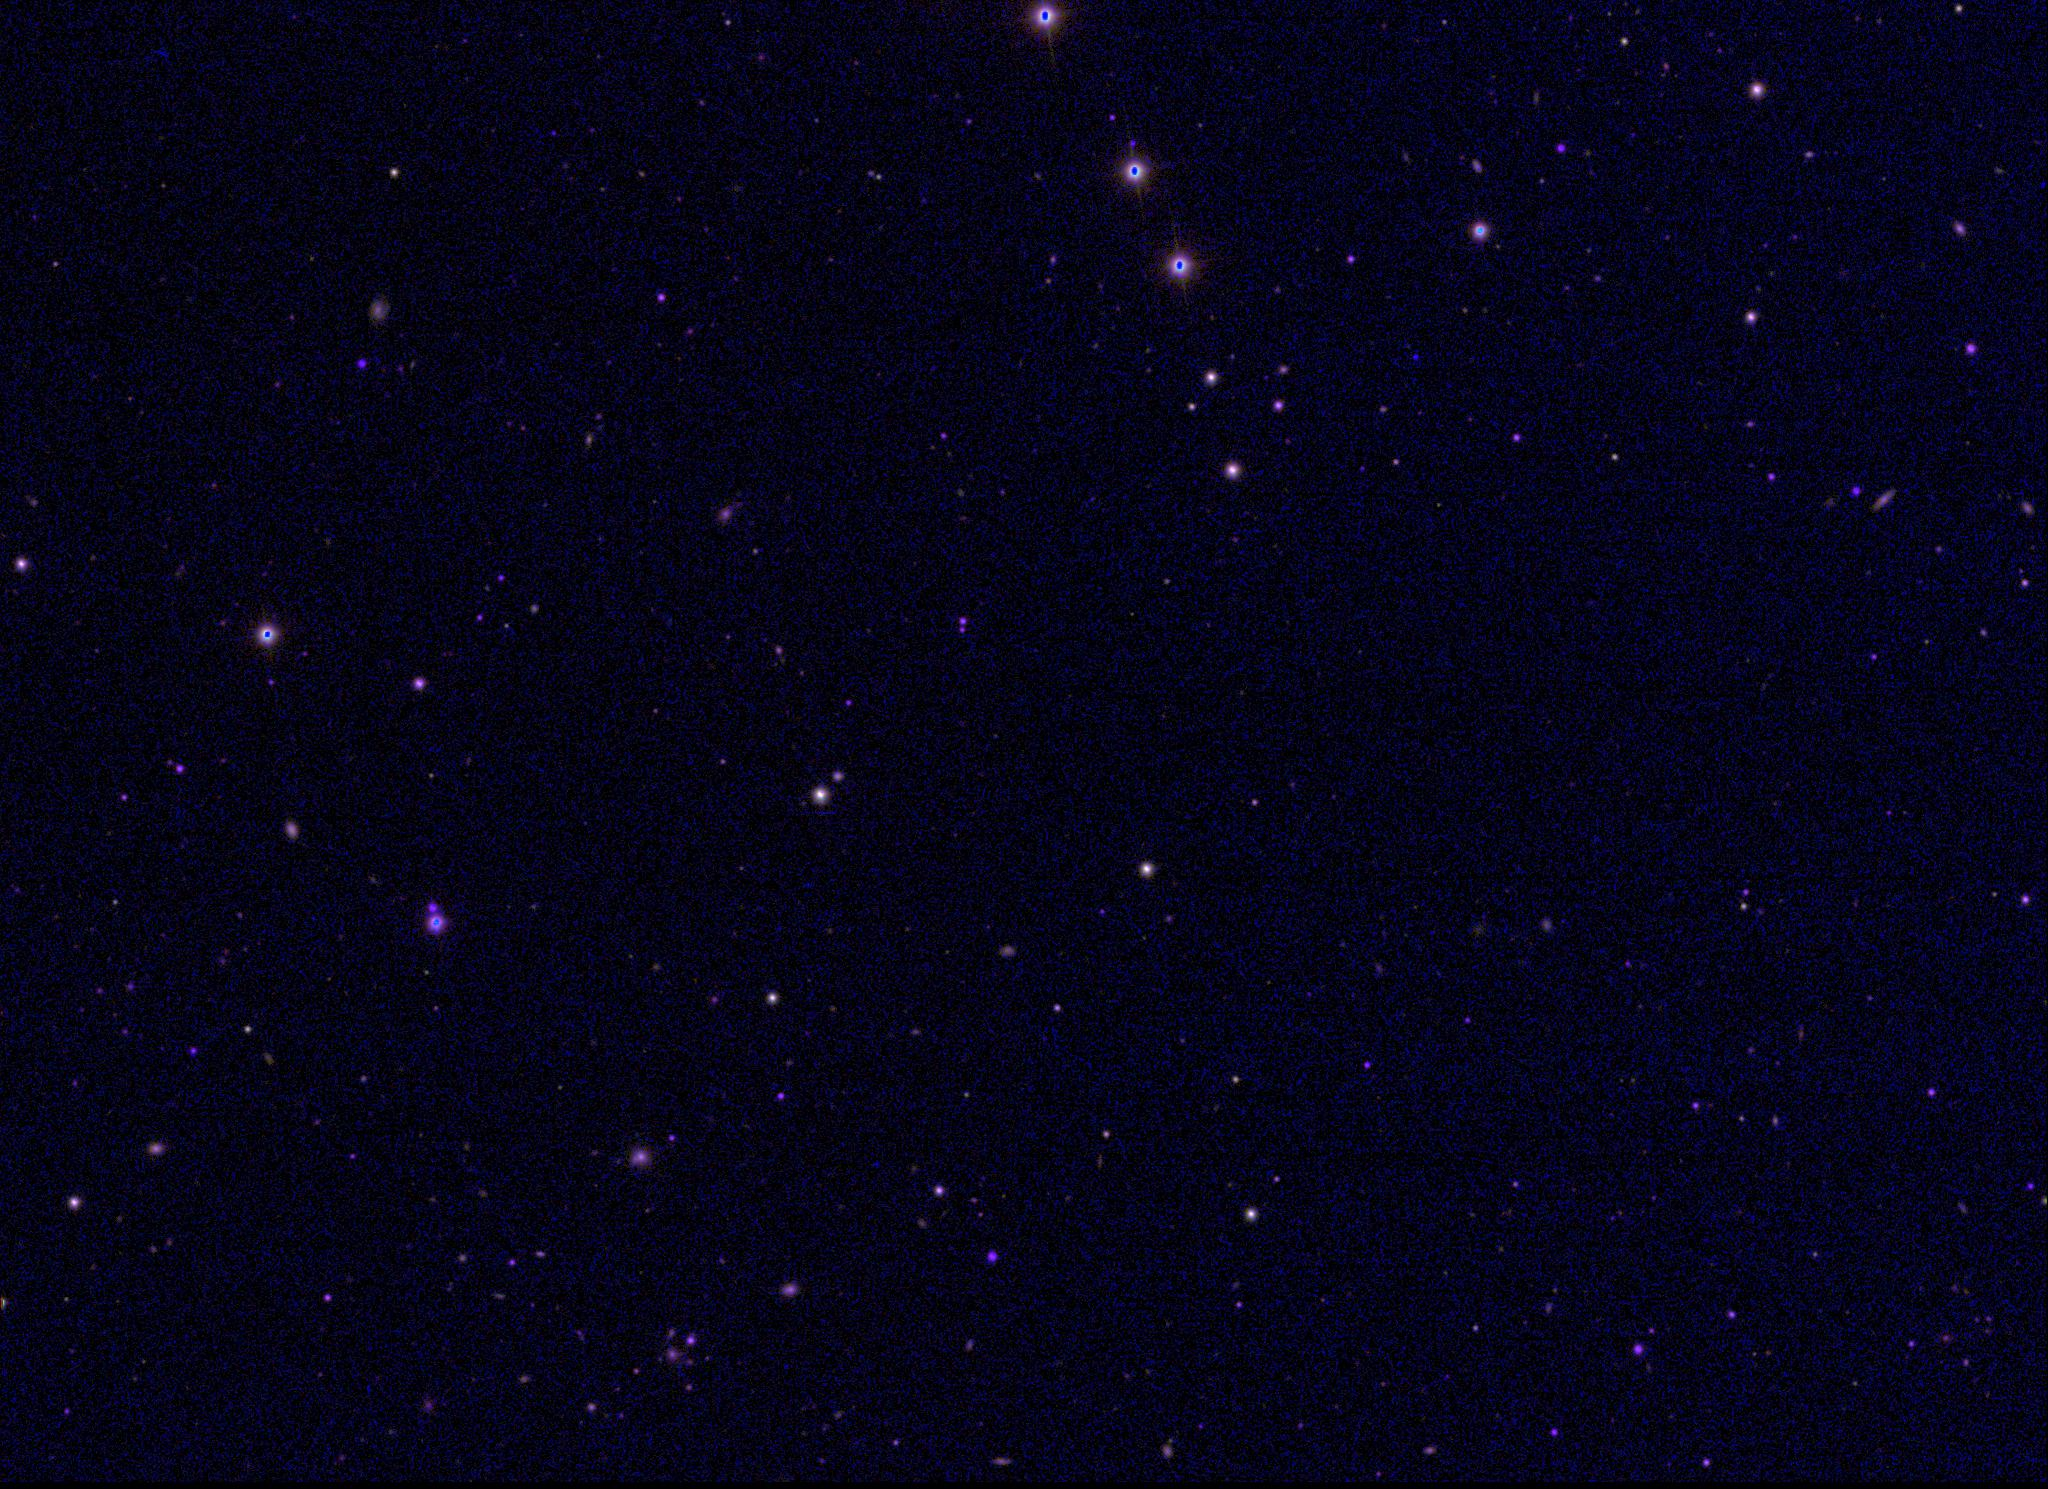L: (1409, 348, 1423, 363)
